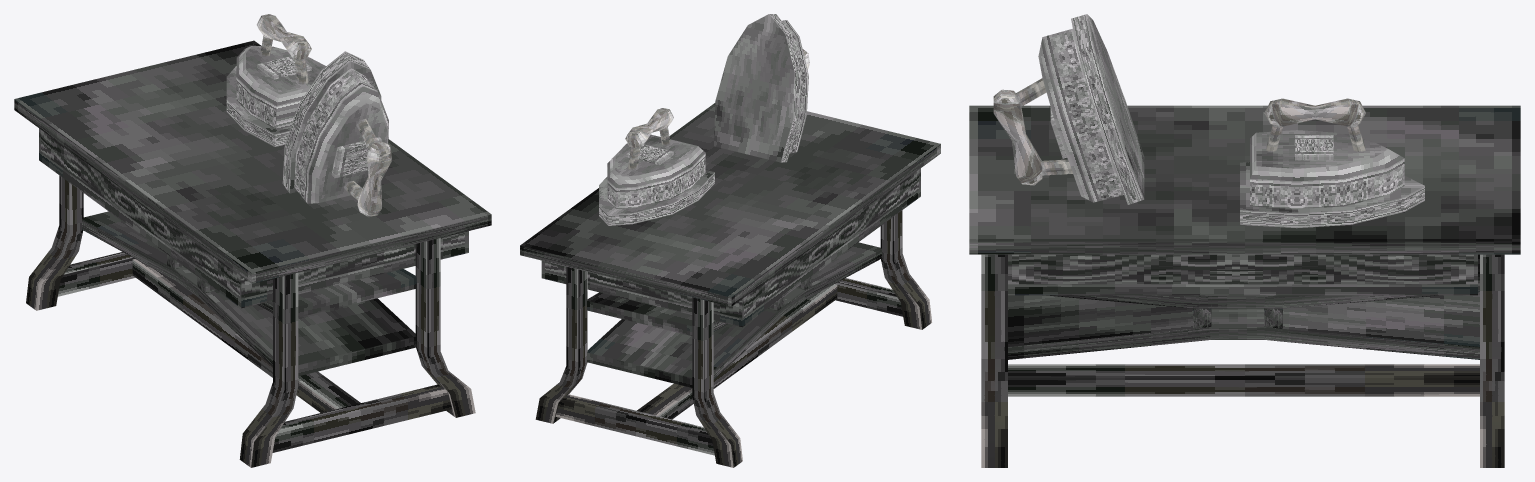
File: oiron.glb
3 views of the same model, side by side, from view 1: azimuth 30°, elevation 25°; view 2: azimuth 150°, elevation 25°; view 3: azimuth 270°, elevation 25° (orthographic). The views are drawn at different scales.
Parts seen in each view (by area): view 1: oiron; view 2: oiron; view 3: oiron.
Boxes of the visible parts, bbox=[...] form: oiron: bbox=[14, 14, 491, 467]; oiron: bbox=[520, 14, 940, 467]; oiron: bbox=[969, 14, 1520, 467].
Size of the model in its own units: 158 by 220 by 271.
Materials: 6 (6 with a texture image).
